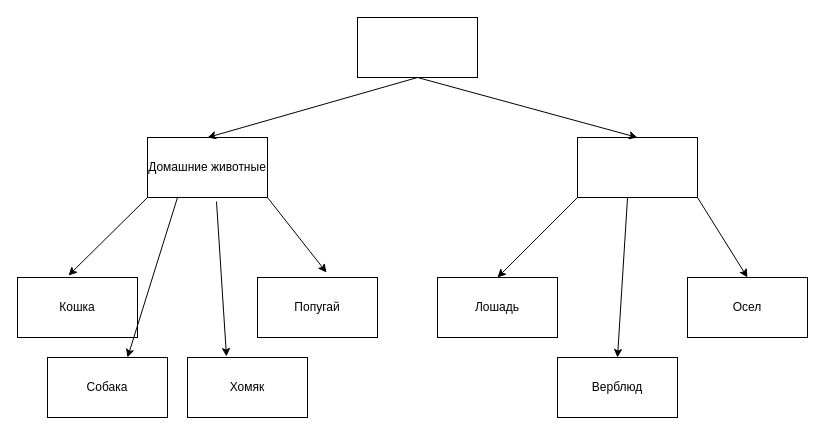
Some shapes in this 825 by 435 pixel diagram are drawn without their labels. The shapes that lost their labels are listed below. From the top down, each one's box as (x1, y1, x2, y2) in pixels, then its label:
(356, 16, 478, 78): Родительский класс Животные
(576, 136, 698, 198): Вьючные животные
